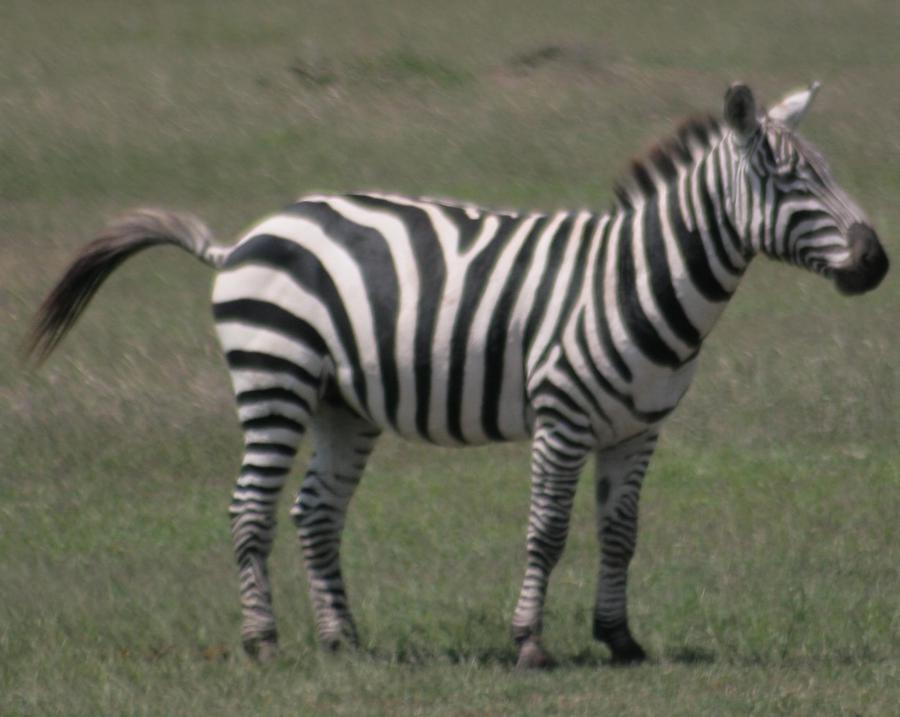zebra_plains: (201, 166, 666, 490)
